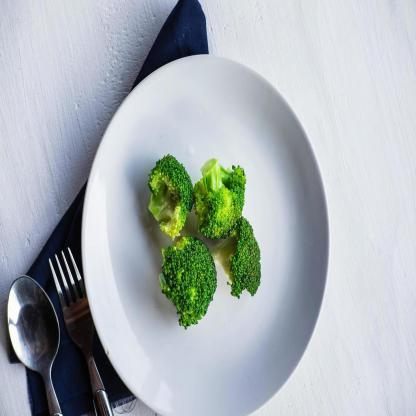broccoli: (150, 148, 262, 333)
